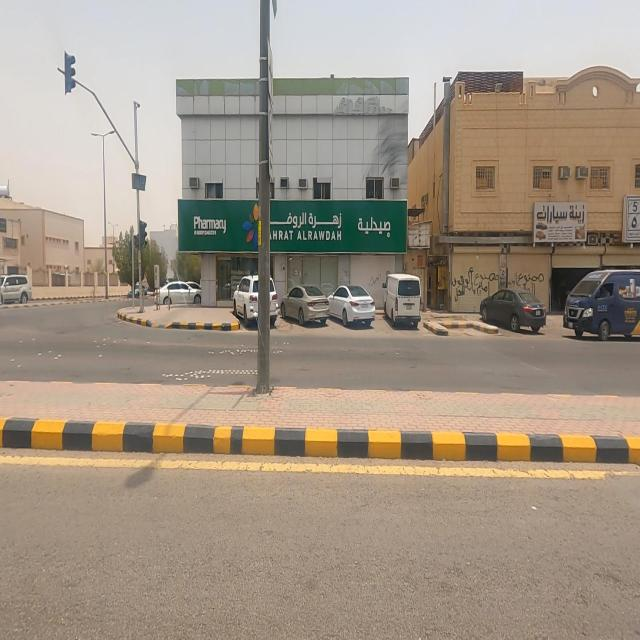Graffiti: (454, 267, 500, 301), (507, 270, 544, 296), (368, 273, 383, 288)
